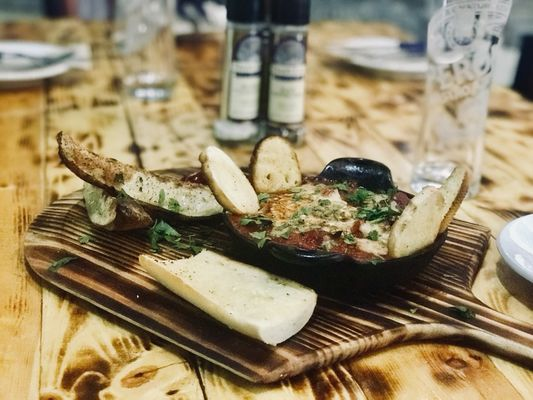sushi: (495, 211, 533, 317)
